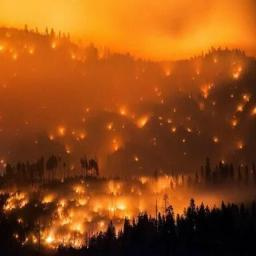Low smoke: (0, 0, 255, 183)
Medium fire: (0, 18, 255, 255)
